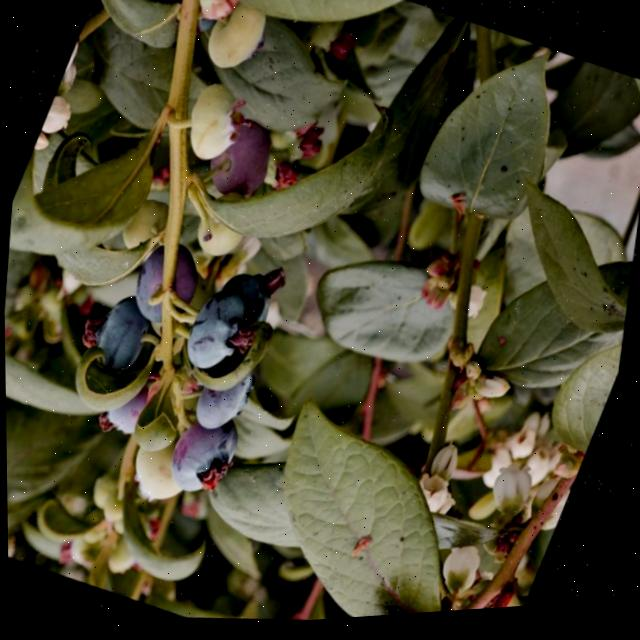RipeBlueBerry: (122, 231, 213, 337), (164, 408, 253, 508), (180, 278, 260, 379), (84, 283, 162, 381), (188, 360, 264, 444), (213, 260, 287, 329)
Semi-RipeBlueBerry: (203, 109, 287, 208)
UnripeBlueBerry: (176, 72, 257, 172), (198, 0, 278, 82)
